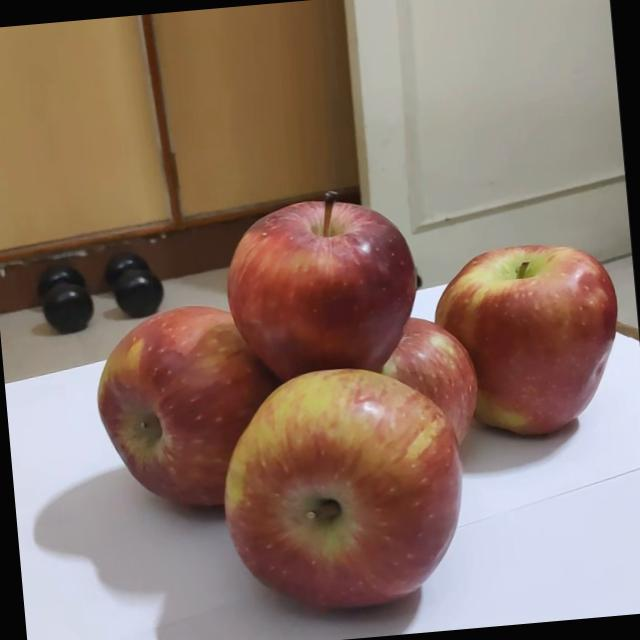apple: (212, 346, 483, 623), (425, 218, 638, 452), (85, 293, 303, 521), (218, 175, 431, 392)
